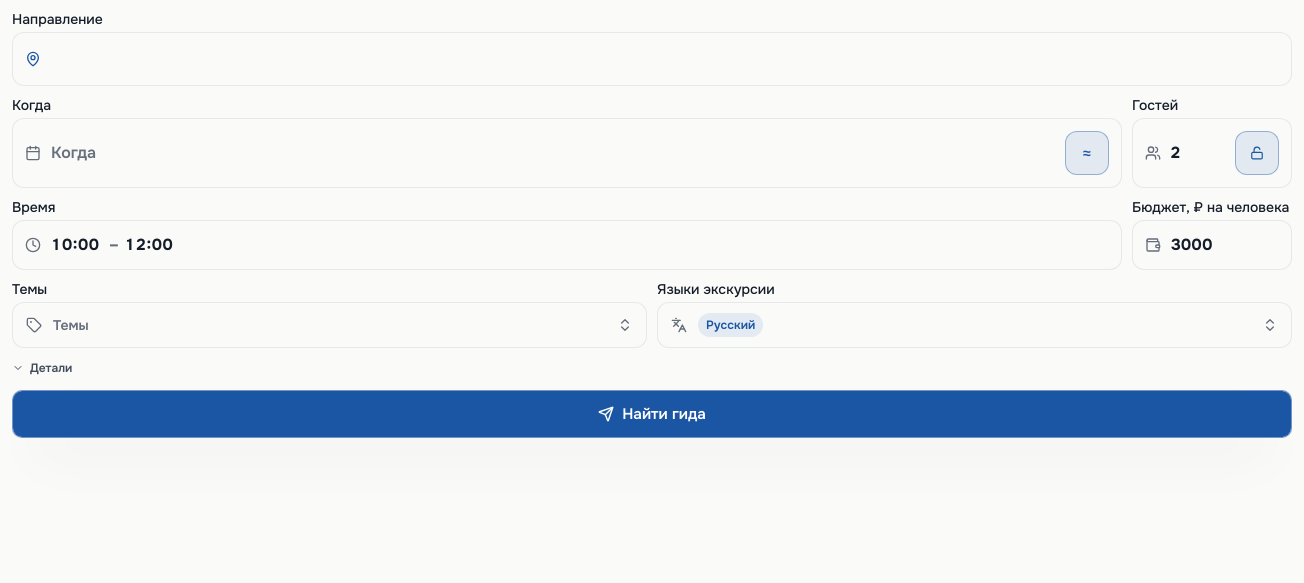
Scenario: HomepageRequestFormClassic labelled layout › prefills location, notes, and budget from a selected ready excursion
This screenshot has width=1304, height=583.
Expected: the dropdown labelled "Направление" holds "Казань", [51,45,1279,73]
Click the button "Детали" at (42, 368), box [12,360,72,376]
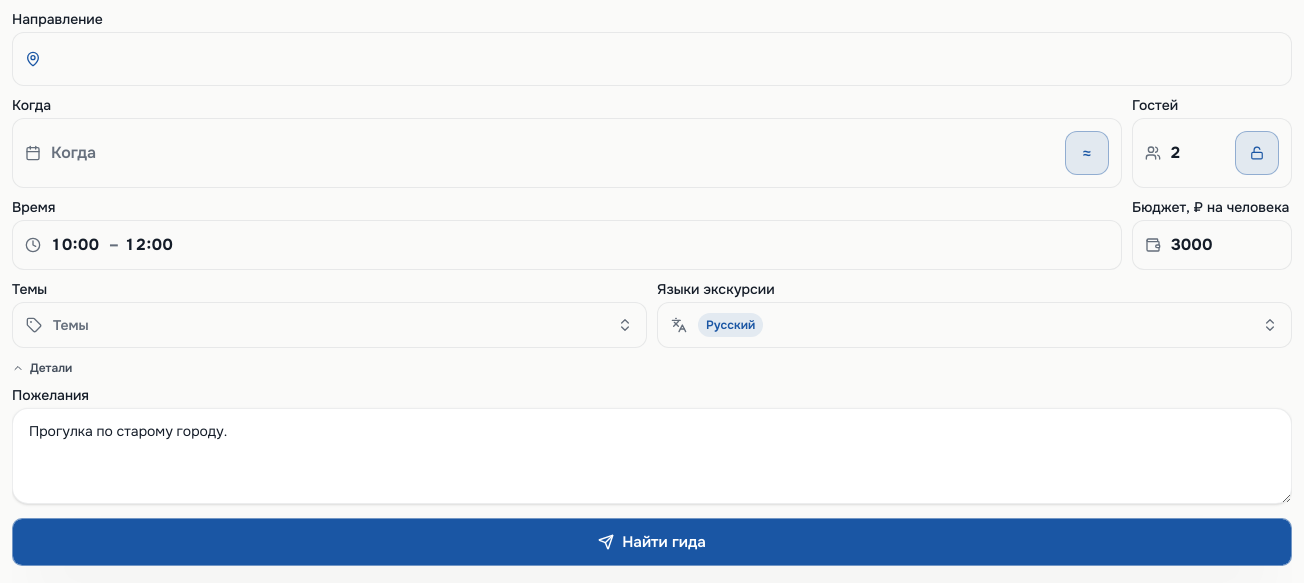
Expected: the field labelled "Бюджет, ₽ на человека" holds "3000", [1171,235,1279,255]
Result: the text box labelled "Пожелания" holds "Прогулка по старому городу." at [12,408,1292,504]
